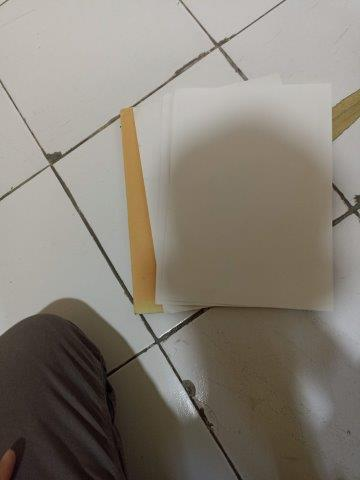kertas: (120, 75, 333, 315)
